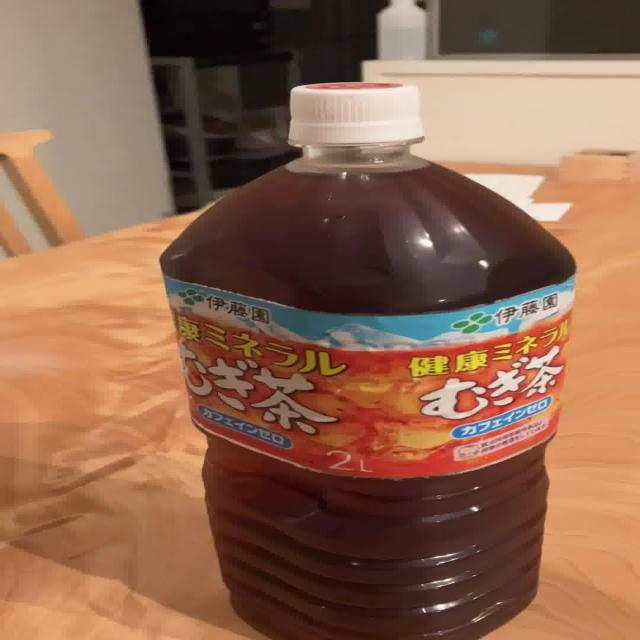good: (156, 78, 580, 640)
